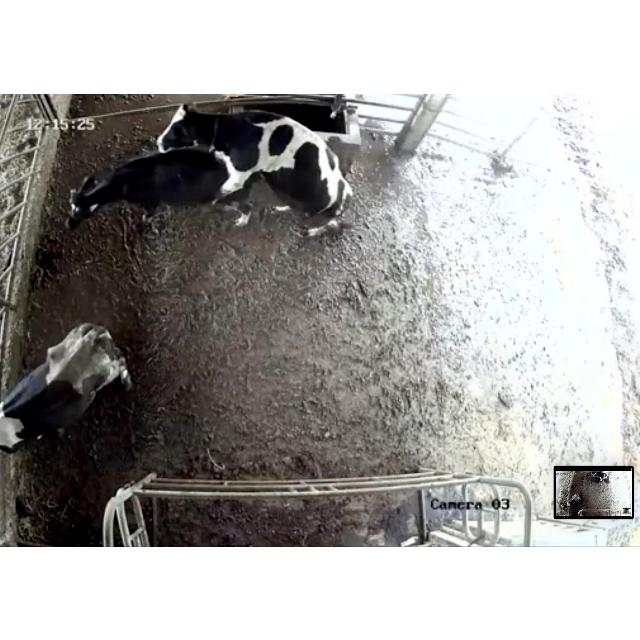ride: (156, 96, 364, 244)
